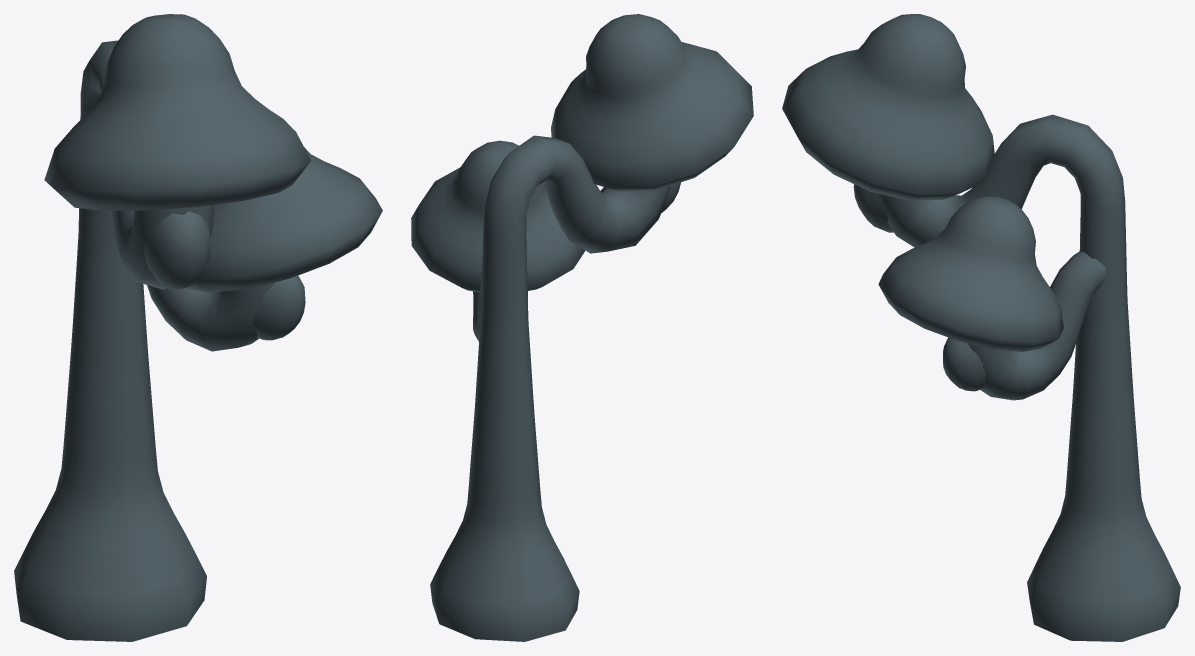
Rendered from SM_Lampshroom.fbx.
3 views of the same model, side by side, from view 1: azimuth 30°, elevation 25°; view 2: azimuth 150°, elevation 25°; view 3: azimuth 270°, elevation 25° (orthographic). The views are drawn at different scales.
Visible parts, largest first — view 1: double_lamp_shroom_low (×3); view 2: double_lamp_shroom_low (×2); view 3: double_lamp_shroom_low (×3).
Boxes of the visible parts, bbox=[...] form: double_lamp_shroom_low (×3): bbox=[14, 14, 382, 641]; double_lamp_shroom_low (×2): bbox=[411, 14, 753, 641]; double_lamp_shroom_low (×3): bbox=[782, 14, 1180, 641].
Size of the model in its own units: 284 by 520 by 330.
